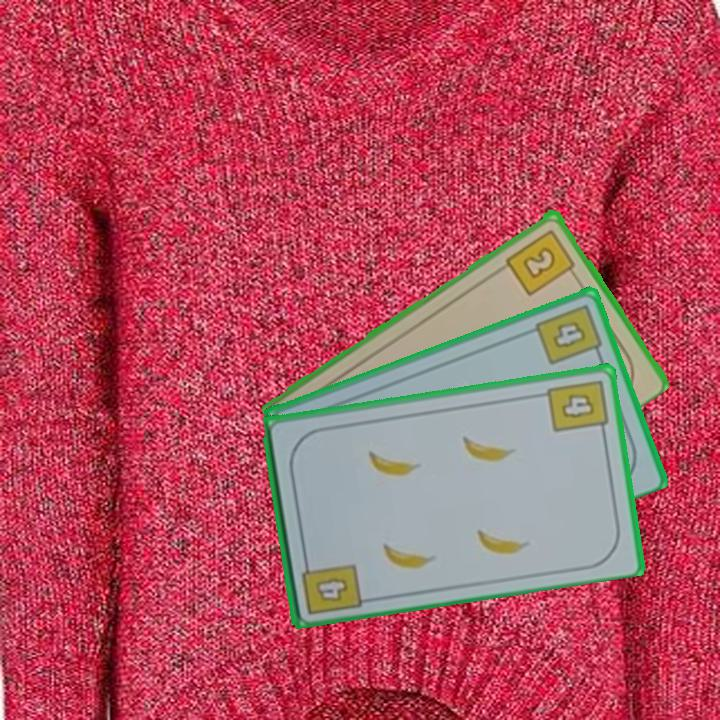2b: (502, 225, 579, 298)
4b: (531, 300, 605, 368), (297, 552, 364, 617), (544, 376, 611, 438)
